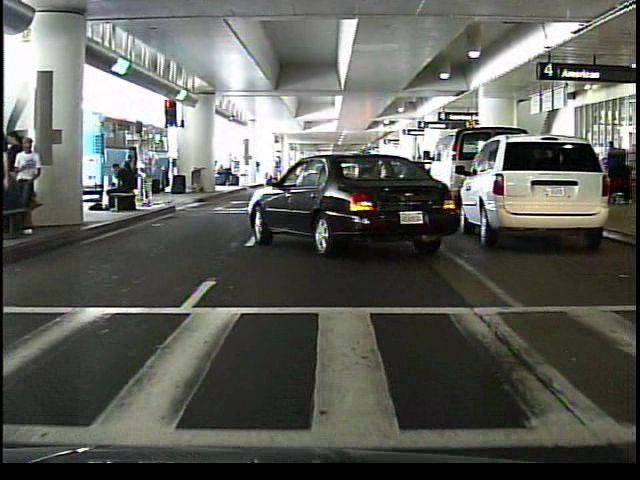person: (101, 161, 137, 216)
